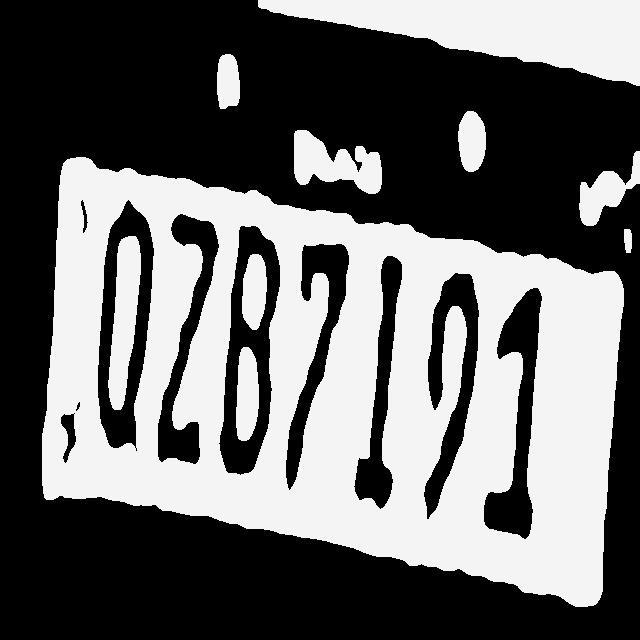1: (483, 283, 548, 542)
7: (285, 234, 349, 498)
9: (415, 266, 483, 530)
b: (218, 220, 282, 482)
i: (352, 252, 409, 512)
q: (94, 197, 158, 457)
z: (154, 208, 220, 470)
